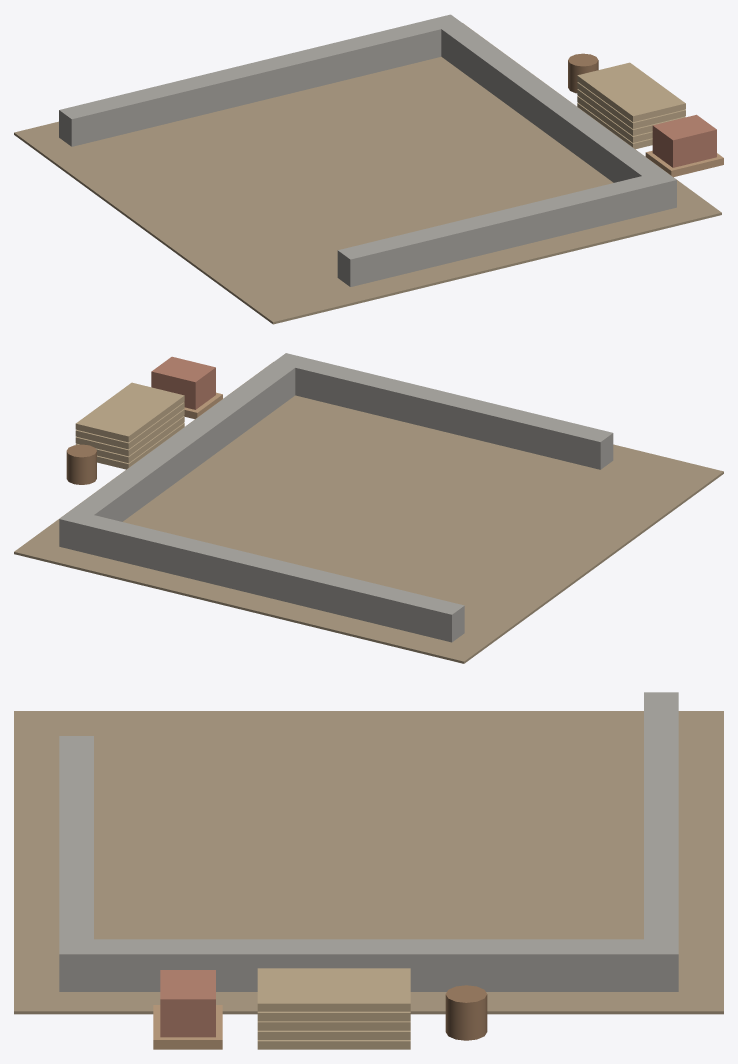
Rendered from spa_site_2.glb.
3 views of the same model, one above another, from view 1: azimuth 30°, elevation 25°; view 2: azimuth 150°, elevation 25°; view 3: azimuth 270°, elevation 25° (orthographic). The views are drawn at different scales.
Parts seen in each view (by area): view 1: body; view 2: body; view 3: body.
Part boxes in pixels (x1=…): body: x1=14, y1=14, x2=723, y2=324; body: x1=14, y1=353, x2=723, y2=663; body: x1=14, y1=692, x2=723, y2=1049.
Size of the model in its own units: 2.28 by 0.15 by 2.04.
